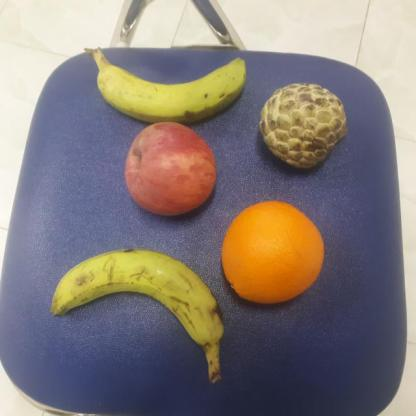annona: (258, 82, 348, 170)
apple: (123, 123, 217, 217)
banana: (50, 246, 226, 349), (95, 56, 250, 124)
orange: (221, 199, 326, 303)
